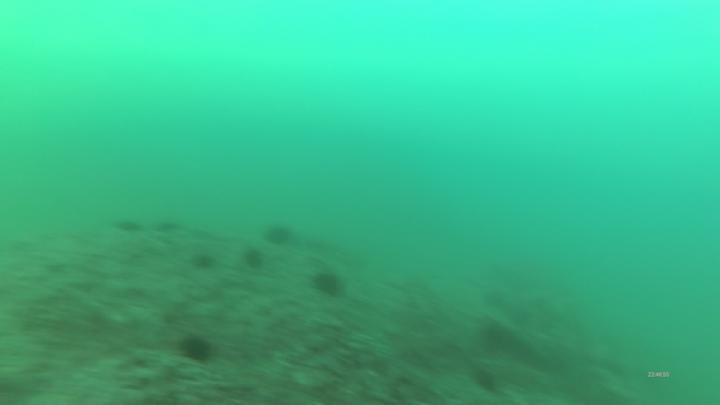echinus: (176, 333, 216, 366), (311, 269, 343, 300), (472, 366, 500, 394), (190, 251, 217, 273), (242, 247, 264, 273), (265, 226, 290, 248), (150, 219, 184, 235), (114, 217, 140, 235)
